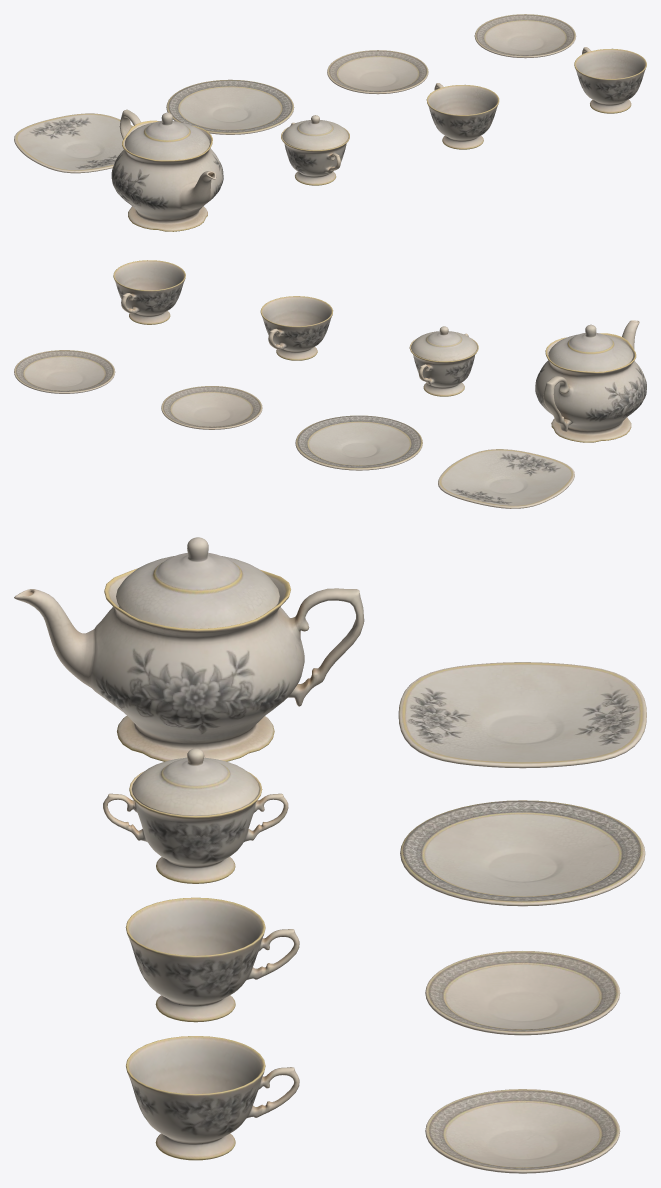
The model's file is victorian-tea-set.glb.
The picture shows the model from 3 angles, top to bottom: view 1: azimuth 30°, elevation 25°; view 2: azimuth 150°, elevation 25°; view 3: azimuth 270°, elevation 25°; orthographic projection. The views are drawn at different scales.
Visible parts, largest first — view 1: tea_set_01_teapot_01, tea_set_01_plate_large_circular_03, tea_set_01_plate_large_square_01, tea_set_01_cup_small_01, tea_set_01_cup_small_02, tea_set_01_saucer_circular_03, tea_set_01_saucer_circular_04, tea_set_01_teapot_01_lid, tea_set_01_sugar_cup_01, tea_set_01_sugar_cup_01_lid; view 2: tea_set_01_teapot_01, tea_set_01_plate_large_square_01, tea_set_01_plate_large_circular_03, tea_set_01_cup_small_01, tea_set_01_cup_small_02, tea_set_01_saucer_circular_04, tea_set_01_saucer_circular_03, tea_set_01_teapot_01_lid, tea_set_01_sugar_cup_01, tea_set_01_sugar_cup_01_lid; view 3: tea_set_01_teapot_01, tea_set_01_plate_large_square_01, tea_set_01_plate_large_circular_03, tea_set_01_cup_small_01, tea_set_01_cup_small_02, tea_set_01_saucer_circular_03, tea_set_01_saucer_circular_04, tea_set_01_teapot_01_lid, tea_set_01_sugar_cup_01, tea_set_01_sugar_cup_01_lid.
Part boxes in pixels (bbox=[...]): tea_set_01_teapot_01: bbox=[111, 109, 223, 231]; tea_set_01_plate_large_circular_03: bbox=[166, 79, 294, 134]; tea_set_01_plate_large_square_01: bbox=[14, 113, 133, 173]; tea_set_01_cup_small_01: bbox=[426, 83, 499, 149]; tea_set_01_cup_small_02: bbox=[574, 47, 646, 113]; tea_set_01_saucer_circular_03: bbox=[474, 14, 576, 58]; tea_set_01_saucer_circular_04: bbox=[327, 50, 428, 94]; tea_set_01_teapot_01_lid: bbox=[125, 112, 209, 160]; tea_set_01_sugar_cup_01: bbox=[281, 122, 349, 185]; tea_set_01_sugar_cup_01_lid: bbox=[282, 115, 348, 150]; tea_set_01_teapot_01: bbox=[535, 320, 646, 442]; tea_set_01_plate_large_square_01: bbox=[438, 449, 574, 508]; tea_set_01_plate_large_circular_03: bbox=[295, 415, 422, 470]; tea_set_01_cup_small_01: bbox=[260, 296, 333, 360]; tea_set_01_cup_small_02: bbox=[113, 260, 185, 324]; tea_set_01_saucer_circular_04: bbox=[161, 386, 262, 429]; tea_set_01_saucer_circular_03: bbox=[14, 350, 115, 393]; tea_set_01_teapot_01_lid: bbox=[548, 324, 633, 371]; tea_set_01_sugar_cup_01: bbox=[409, 333, 478, 396]; tea_set_01_sugar_cup_01_lid: bbox=[411, 326, 477, 361]; tea_set_01_teapot_01: bbox=[14, 568, 364, 761]; tea_set_01_plate_large_square_01: bbox=[398, 662, 646, 768]; tea_set_01_plate_large_circular_03: bbox=[400, 800, 645, 906]; tea_set_01_cup_small_01: bbox=[125, 897, 299, 1022]; tea_set_01_cup_small_02: bbox=[126, 1036, 299, 1160]; tea_set_01_saucer_circular_03: bbox=[425, 1089, 620, 1173]; tea_set_01_saucer_circular_04: bbox=[425, 951, 620, 1035]; tea_set_01_teapot_01_lid: bbox=[116, 537, 279, 628]; tea_set_01_sugar_cup_01: bbox=[103, 771, 288, 883]; tea_set_01_sugar_cup_01_lid: bbox=[131, 748, 259, 815].
Size of the model in its own units: 0.9185 by 0.165 by 0.4839.
1 material, 1 textured.
